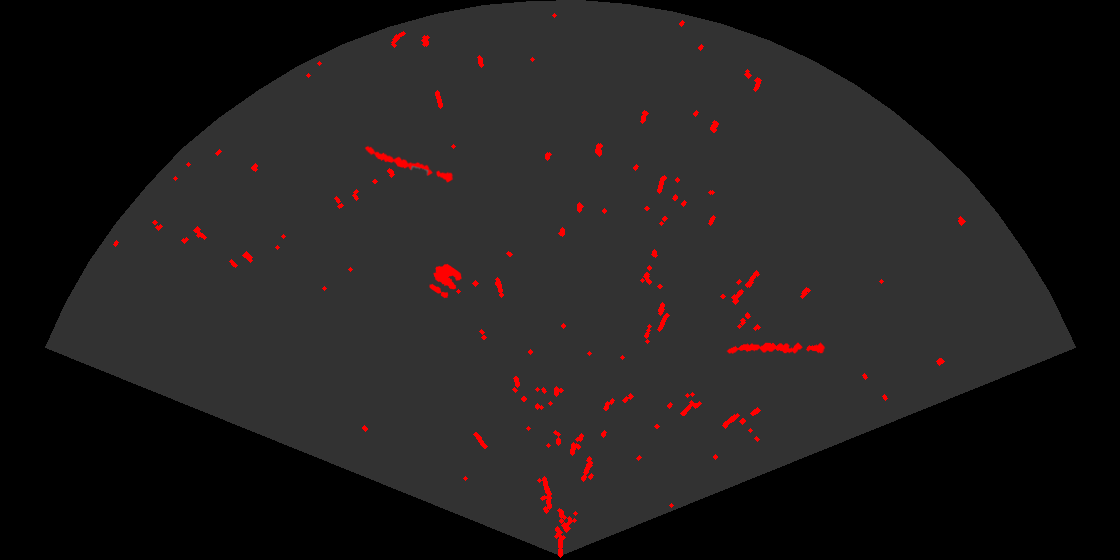ball: (428, 262, 463, 300)
chain: (363, 144, 456, 184), (726, 341, 826, 355)
